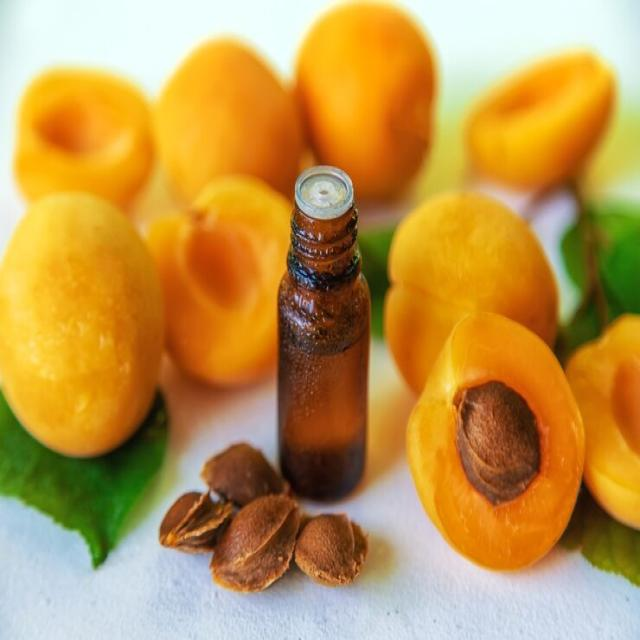kayisi: (3, 33, 267, 394)
kayisi cekirdegi: (421, 332, 586, 554)
